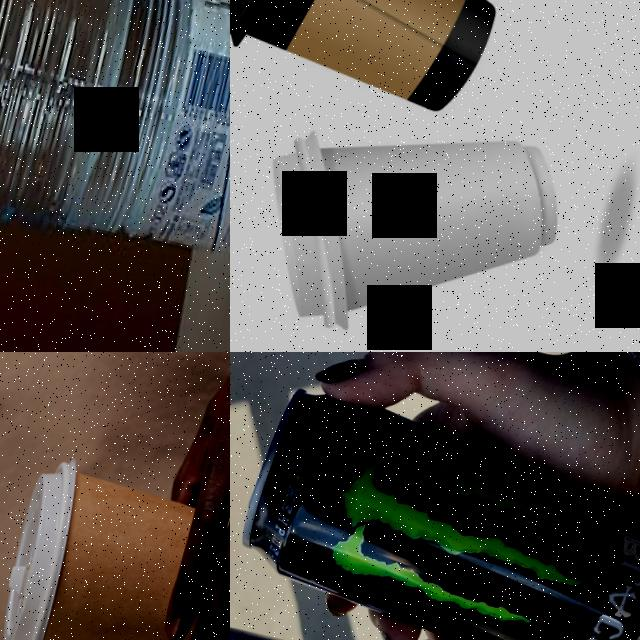bottle: (0, 0, 230, 319)
can: (230, 378, 640, 640)
cup: (230, 85, 576, 352), (0, 448, 230, 640), (230, 0, 528, 121)
